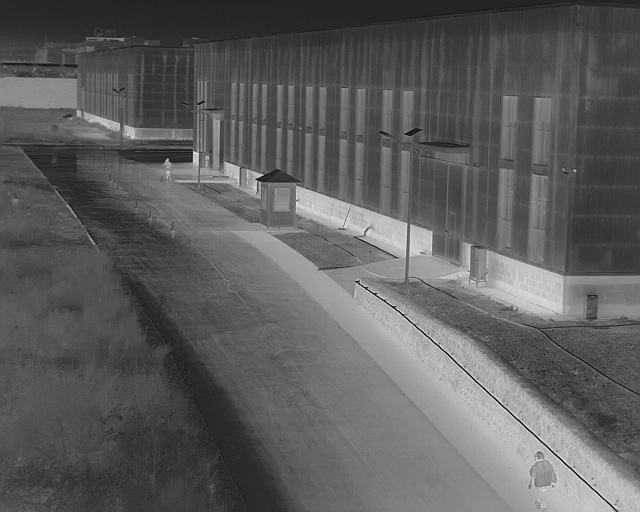person: (526, 450, 558, 511), (162, 153, 174, 185)
